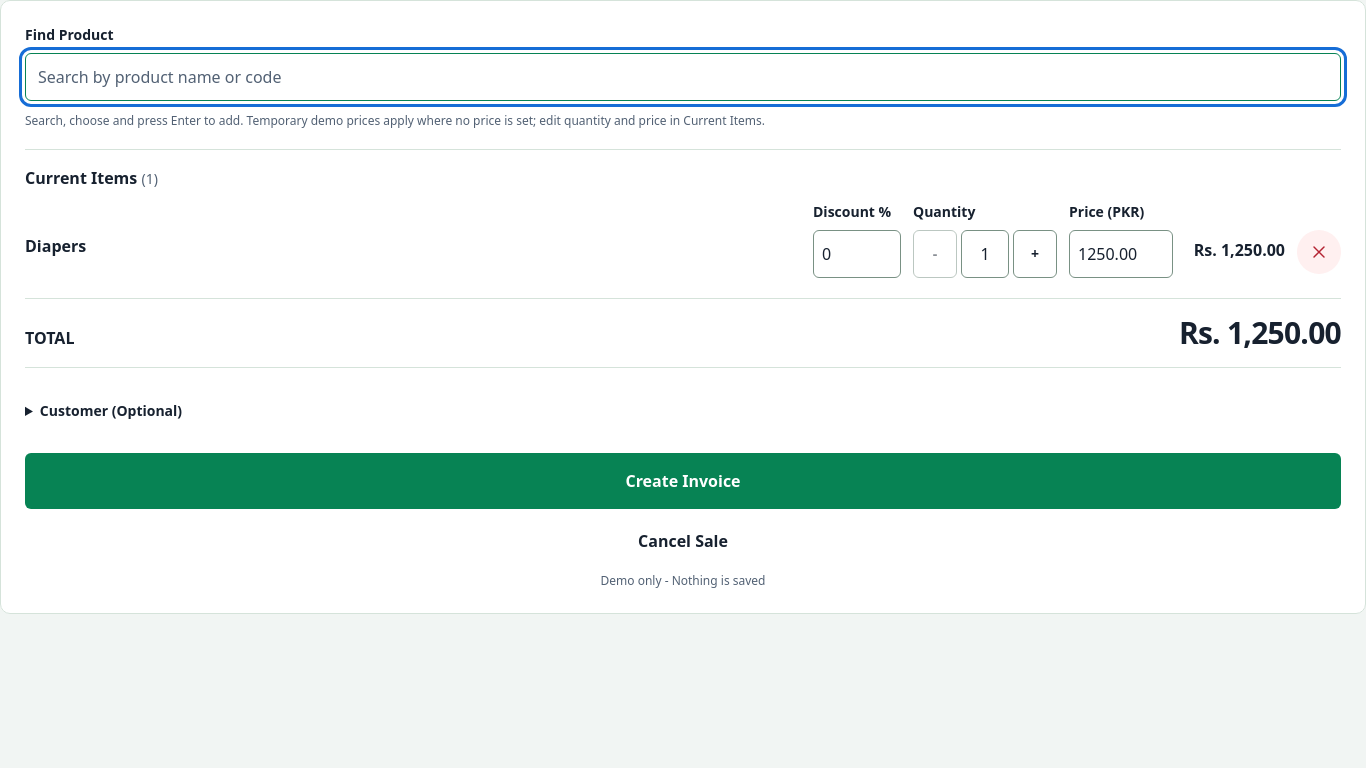
Test: preserves sub-paisa totals without a discount and never rounds a discount
Earlier steps of the test are not shown.
Replace the text in the field named "Diapers quantity, item 1" with "0.125". click: (985, 254)
box: [961,230,1009,278]
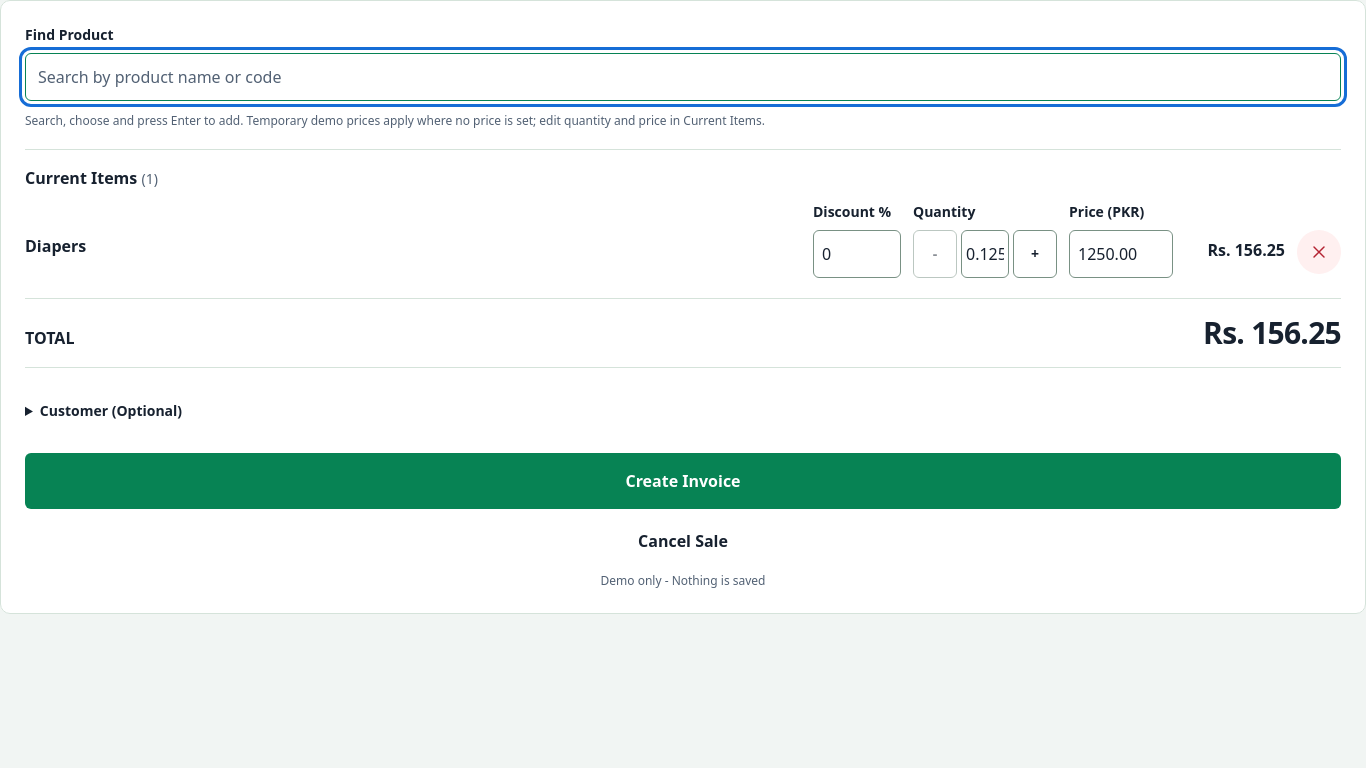
Replace the text in the field named "Diapers price (PKR), item 1" with "0.10". click: (1121, 254)
box: [1069,230,1173,278]
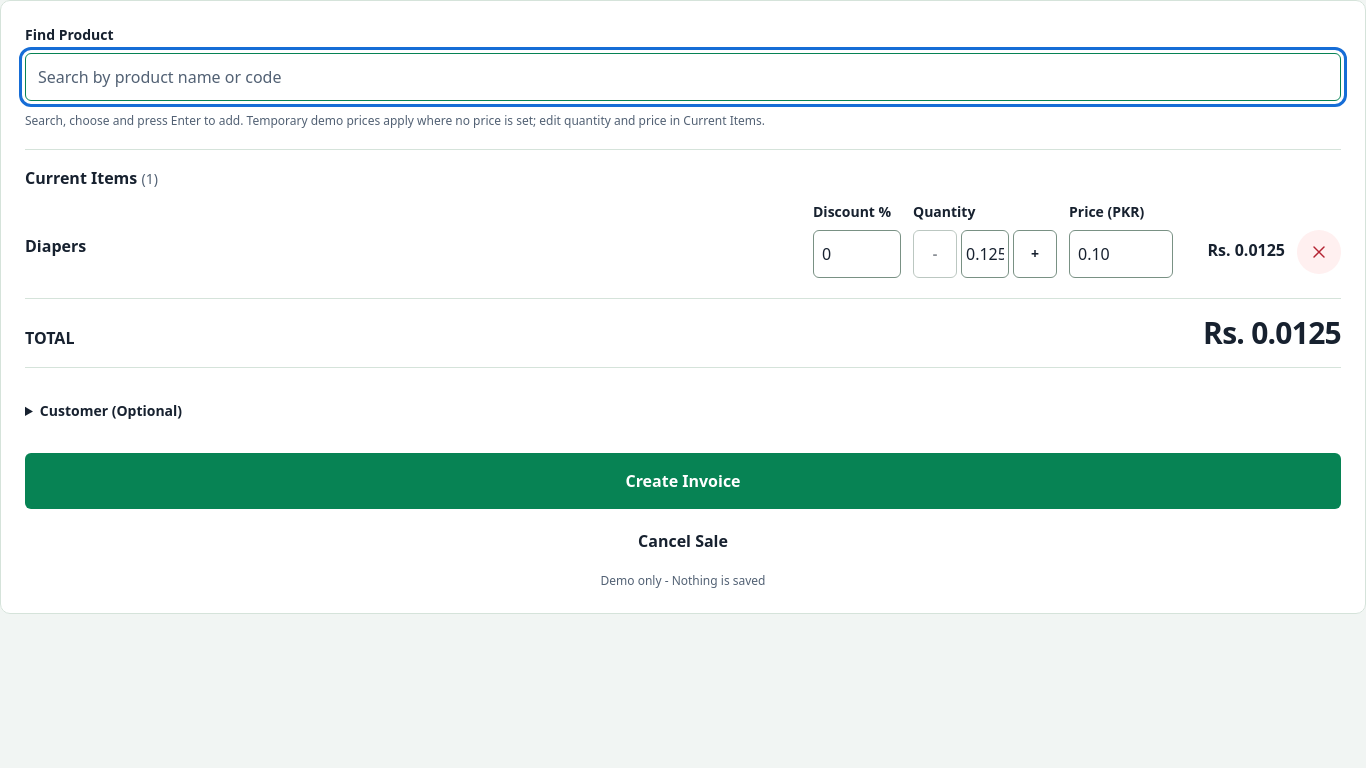
Expected: the text with test id "sale-total" reads "Rs. 0.0125", [1203,312,1341,353]
Type "10" into the field named "Diapers discount (%), item 1". click: (857, 254)
box: [813,230,901,278]
(page scrolled)
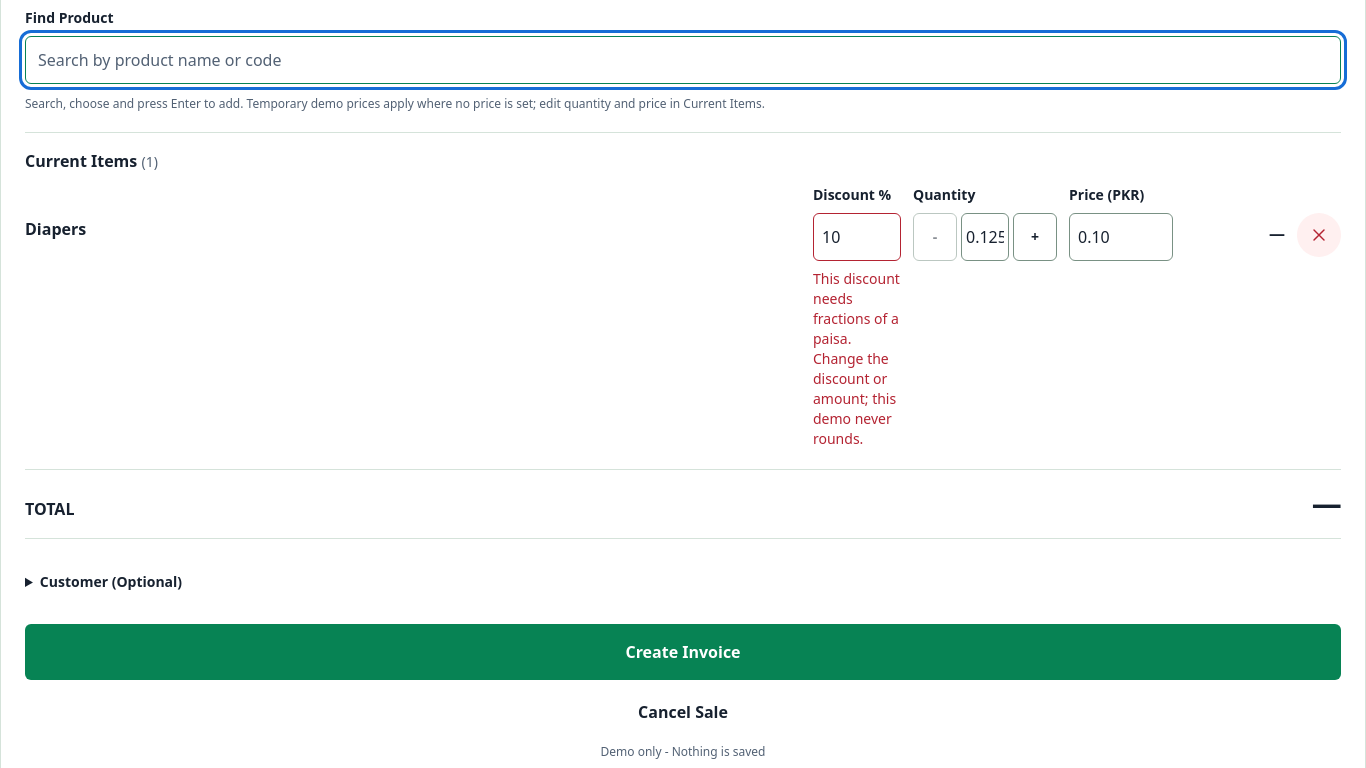
Submit the form named "Make a sale preview"
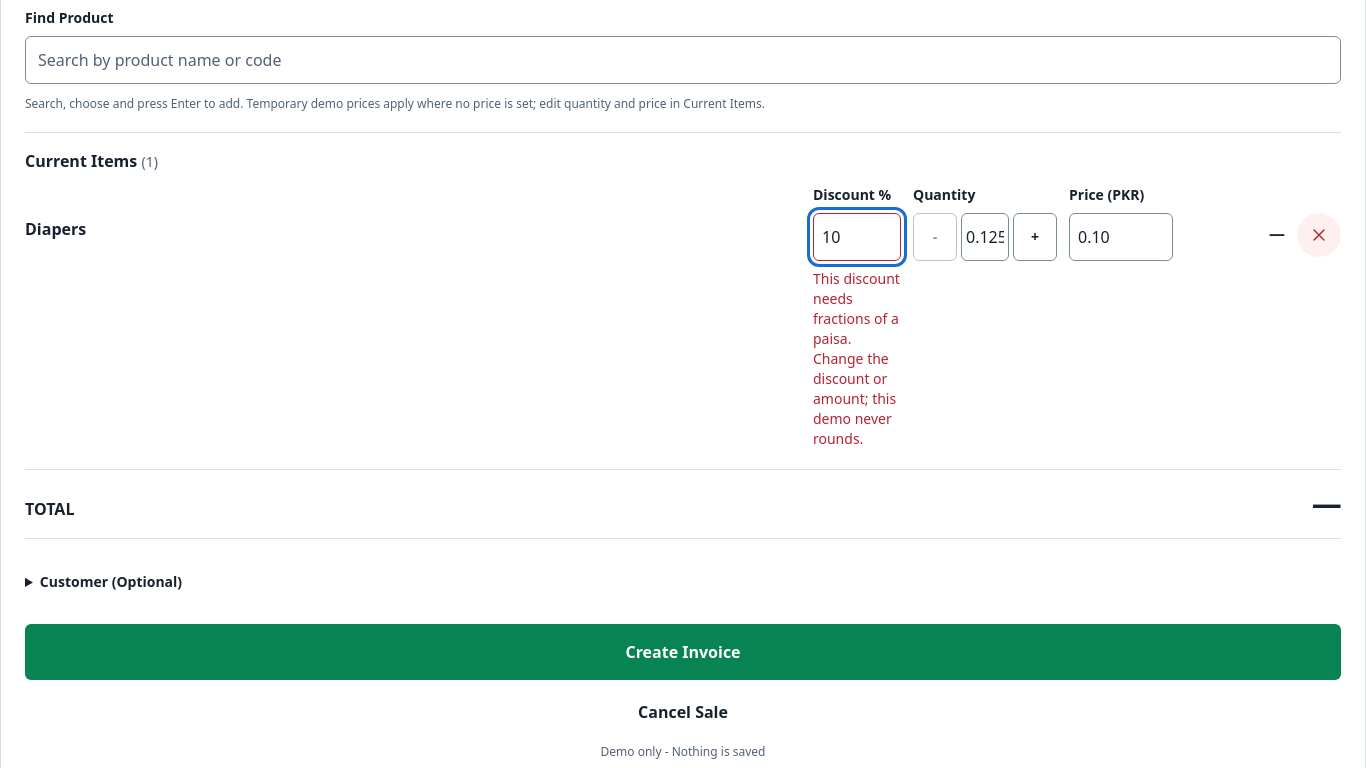
Expected: the message shows "never rounds", [813,269,900,448]
Clear the field named "Diapers discount (%), item 1". click: (857, 237)
box: [813,213,901,261]
(page scrolled)
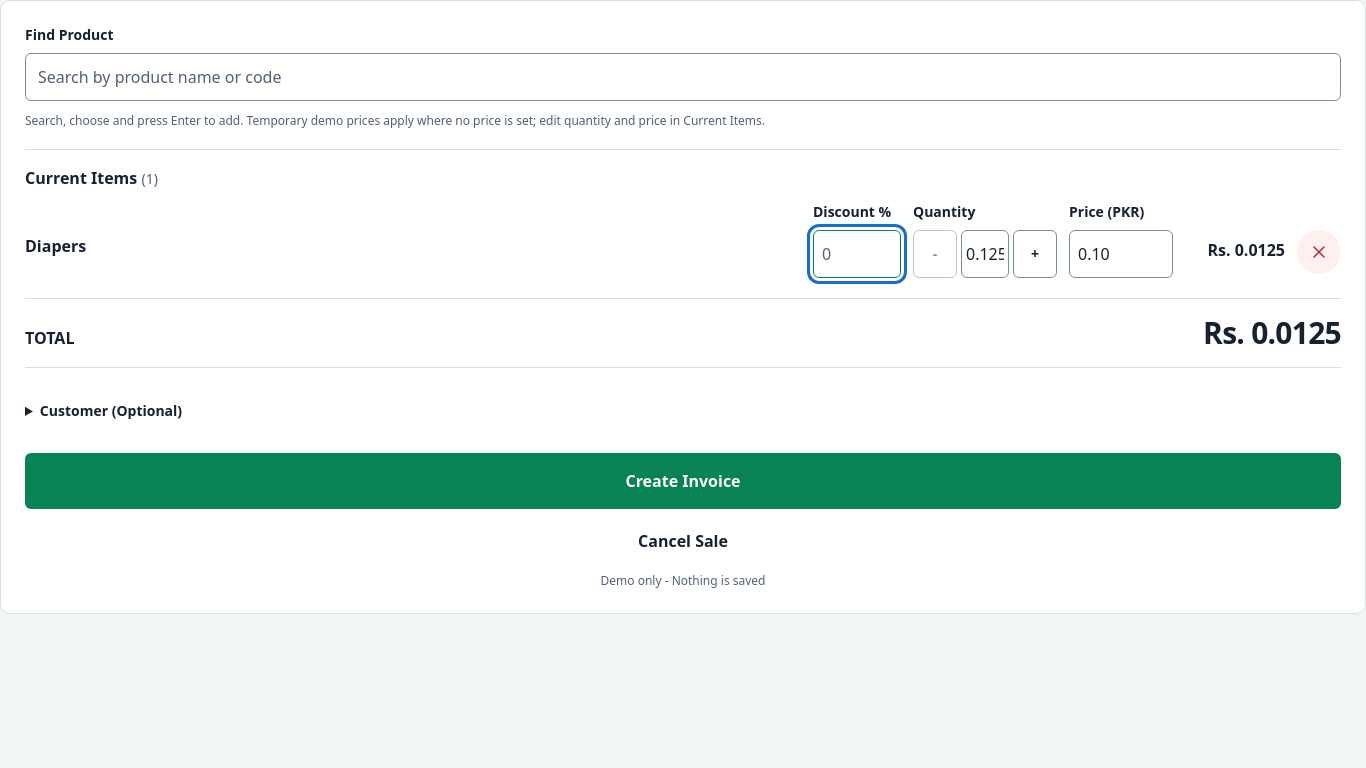
Submit the form named "Make a sale preview"
(page scrolled)
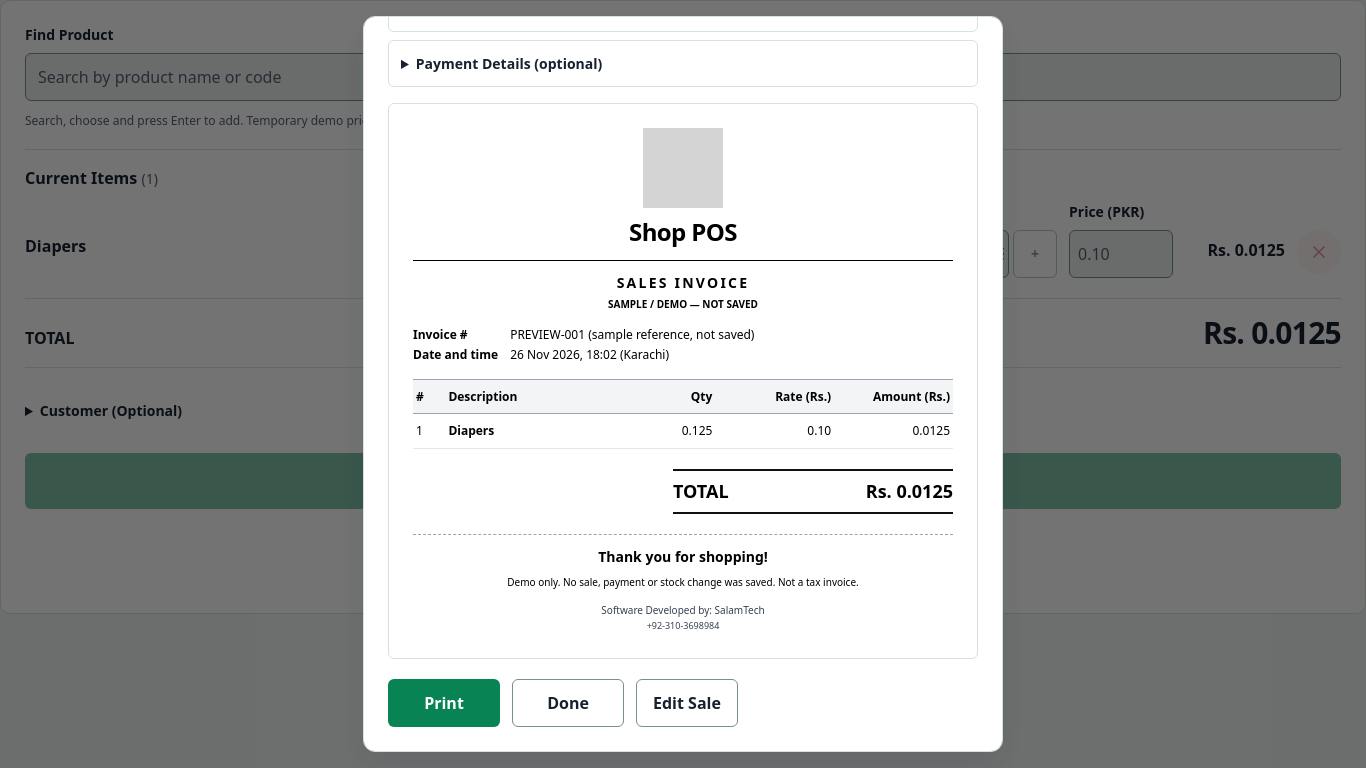
Expected: the text with test id "receipt-total" reads "Rs. 0.0125", [866,479,953,503]
